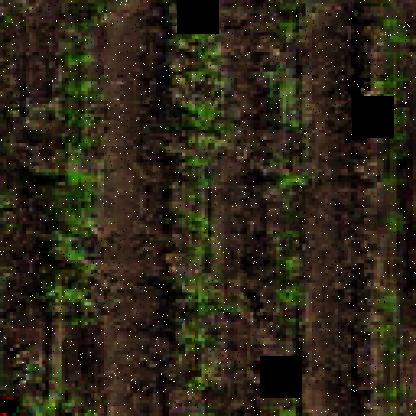sorghum_plant: (162, 2, 229, 398), (361, 0, 416, 416), (44, 2, 104, 327), (256, 1, 311, 336), (30, 364, 94, 416)
